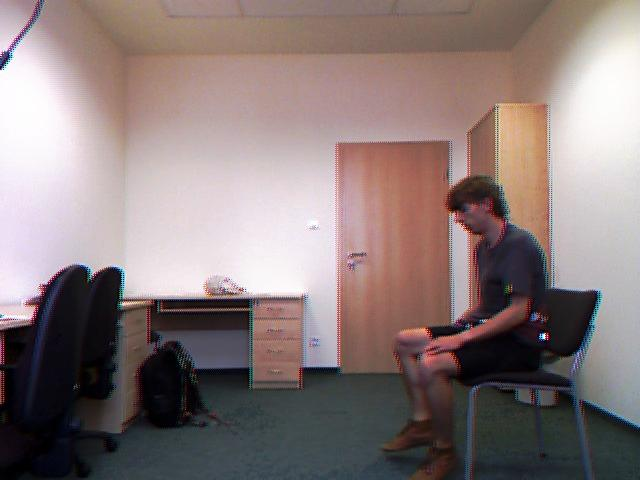sitting: (385, 167, 561, 480)
